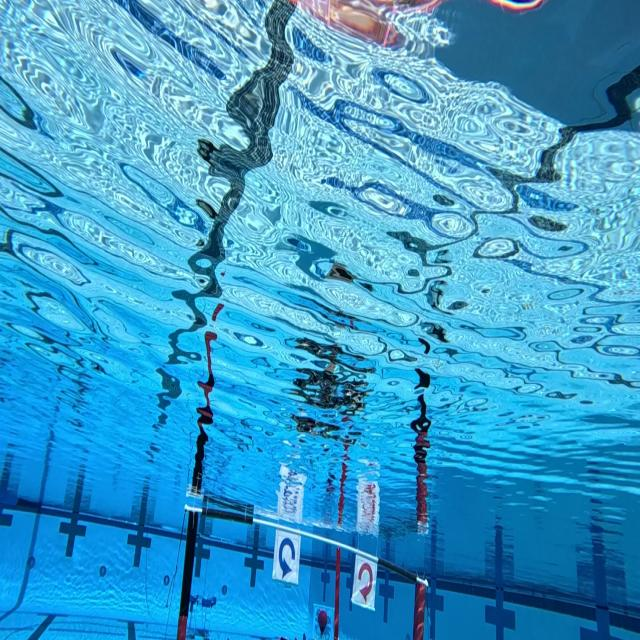blue_side: (273, 529, 302, 585)
red_side: (351, 553, 379, 612)
